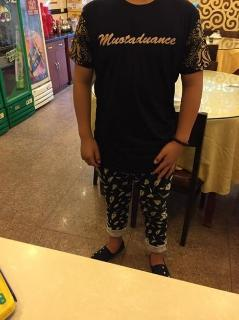short sleeve top: (69, 0, 212, 173)
trousers: (95, 146, 177, 254)
